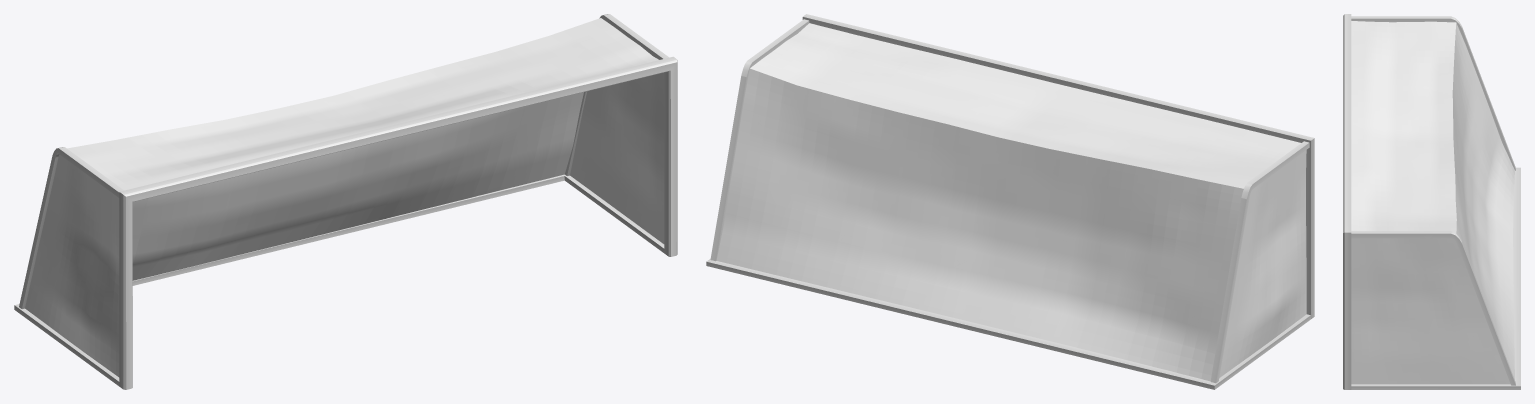
The model's file is st_goal_00_a.fbx.
3 renders of one model, left to right at view 1: azimuth 30°, elevation 25°; view 2: azimuth 150°, elevation 25°; view 3: azimuth 270°, elevation 25°, orthographic. The views are drawn at different scales.
Visible parts, largest first — view 1: net, pole0; view 2: net, pole0; view 3: net, pole0.
Part boxes in pixels (x1,y1,x2,y2): net: (25, 18, 664, 377); pole0: (14, 14, 677, 389); net: (716, 23, 1306, 381); pole0: (706, 14, 1314, 389); net: (1351, 21, 1514, 384); pole0: (1343, 14, 1520, 389).
Size of the model in its own units: 745 by 250 by 256.
